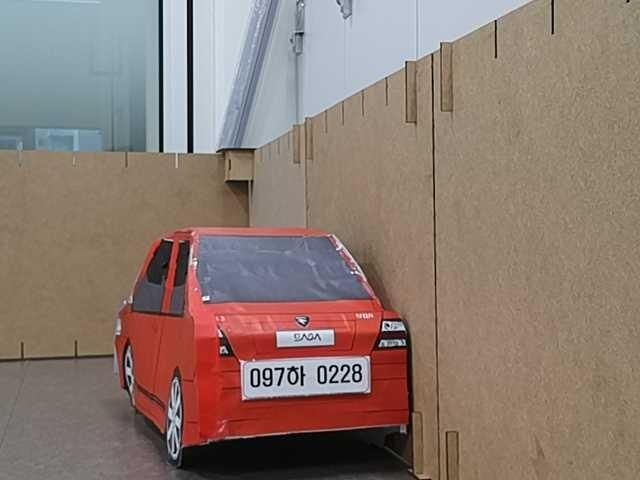car: (113, 225, 412, 464)
id: (240, 355, 371, 400)
